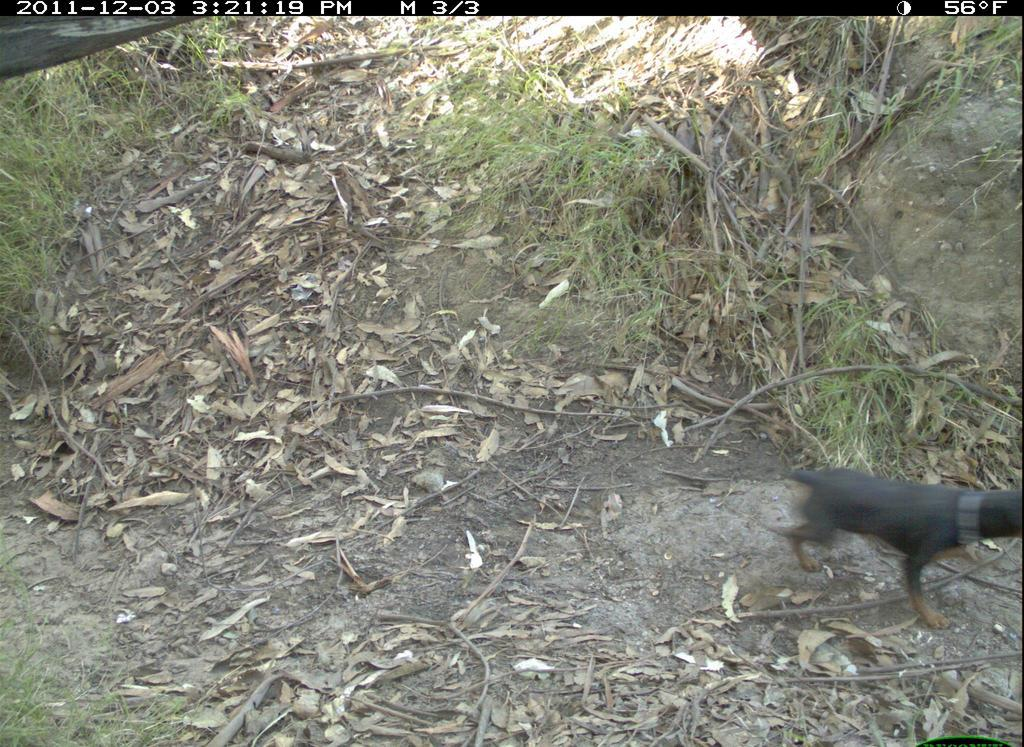dog: (744, 445, 1023, 639)
